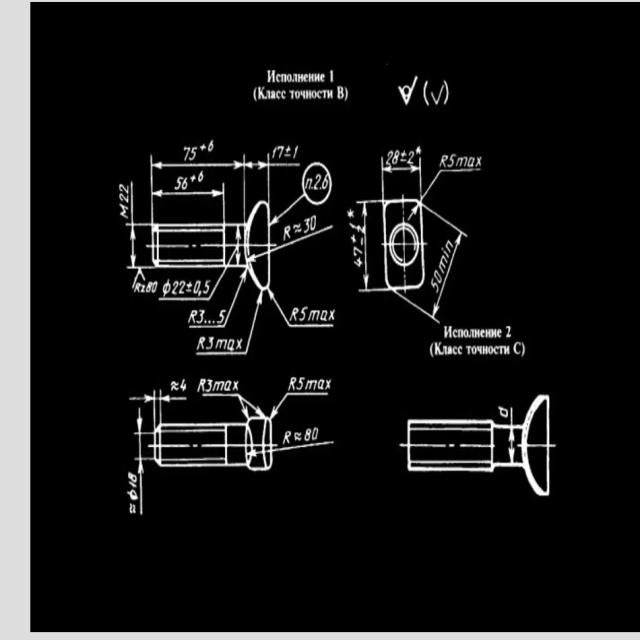marking_line: (134, 419, 146, 516), (154, 159, 241, 169), (129, 392, 188, 405), (153, 188, 222, 197), (363, 203, 368, 289), (128, 225, 137, 268), (507, 427, 515, 462), (235, 226, 241, 266), (246, 160, 268, 169)
numeric: (351, 245, 365, 270), (175, 173, 189, 194), (270, 144, 285, 163), (385, 149, 400, 168), (117, 180, 129, 202), (173, 277, 185, 297), (303, 428, 319, 443), (183, 144, 196, 161), (297, 305, 308, 324), (146, 279, 159, 295), (128, 468, 137, 490), (447, 152, 456, 171), (197, 308, 205, 328), (207, 376, 215, 395), (297, 372, 304, 392), (207, 336, 216, 350), (407, 149, 414, 165), (180, 379, 188, 393)
special_symbol: (397, 75, 421, 112), (429, 82, 444, 105)
